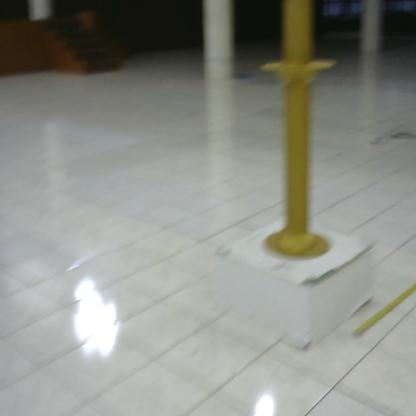pole: (255, 1, 339, 263)
